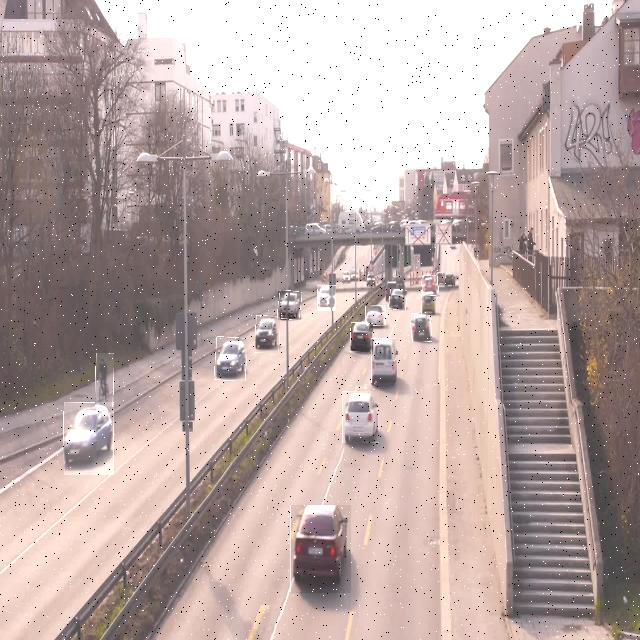Car: (290, 506, 351, 594), (64, 402, 114, 475), (342, 391, 379, 443), (215, 336, 246, 381), (371, 338, 396, 383), (256, 316, 280, 353), (278, 291, 301, 320), (351, 323, 373, 352), (411, 313, 432, 342), (317, 285, 336, 311), (366, 306, 386, 326), (421, 290, 436, 315), (389, 290, 406, 310), (422, 275, 438, 296)
Motorcycle: (96, 353, 114, 407)
